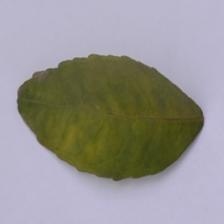greening: (80, 58, 180, 184)
